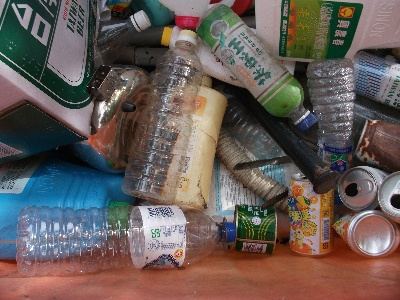bottle: (15, 205, 235, 275), (196, 5, 316, 133), (121, 29, 201, 205), (1, 159, 135, 261), (319, 57, 356, 174), (288, 175, 335, 257), (351, 50, 400, 108), (234, 204, 278, 258)
